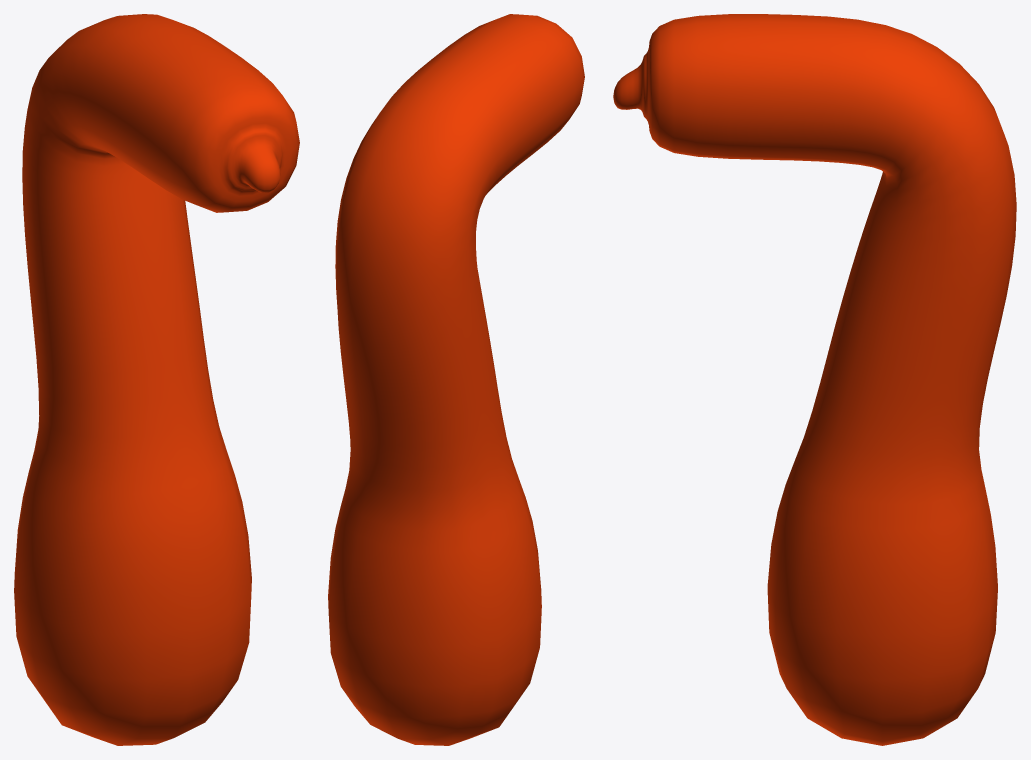
The model's file is Squash2.fbx.
The picture shows the model from 3 angles, left to right: view 1: azimuth 30°, elevation 25°; view 2: azimuth 150°, elevation 25°; view 3: azimuth 270°, elevation 25°; orthographic projection. The views are drawn at different scales.
Parts seen in each view (by area): view 1: Squash2; view 2: Squash2; view 3: Squash2.
Part boxes in pixels (box(x1,y1,x2,y2)): Squash2: box(14, 14, 299, 745); Squash2: box(328, 14, 584, 745); Squash2: box(613, 14, 1016, 745).
Bounding box in the file's own units: 1.5 × 5.12 × 2.63.
